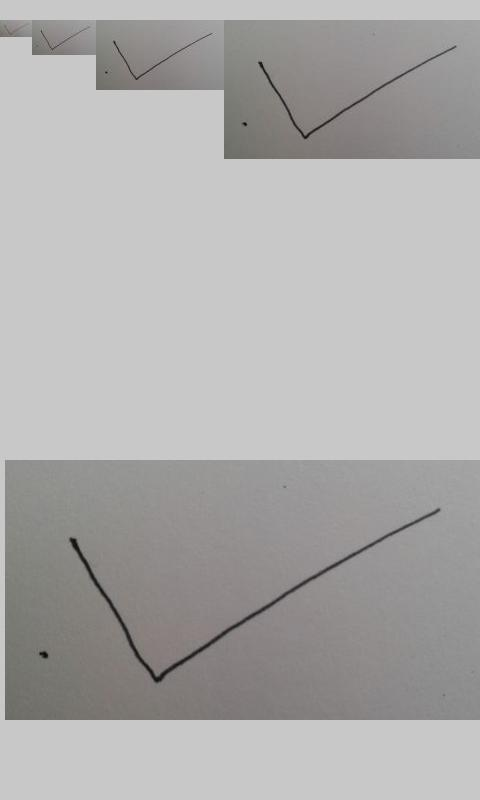check_box: (70, 508, 444, 683), (258, 46, 455, 140), (113, 33, 212, 80), (41, 27, 89, 51), (4, 23, 28, 35)
